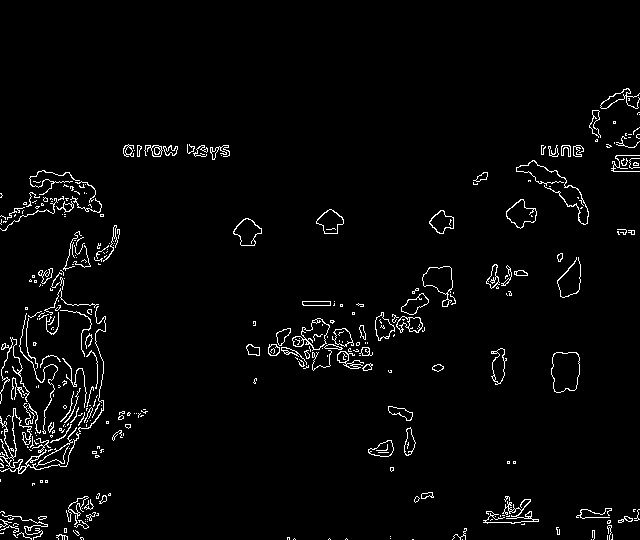left: (417, 204, 464, 244), (500, 195, 544, 234)
up: (226, 213, 270, 254), (309, 201, 351, 239)
